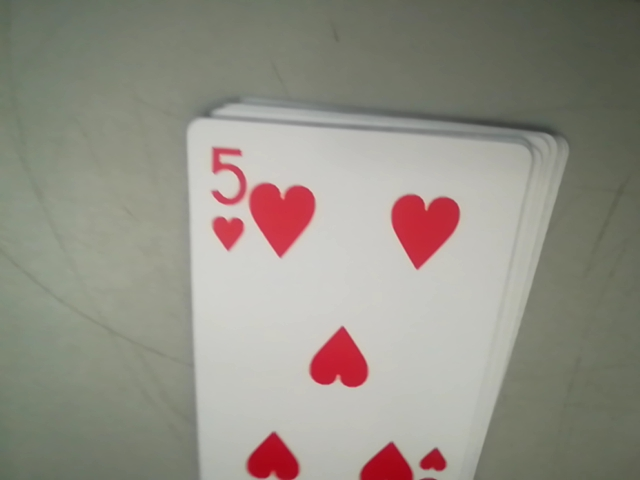hx 5: (193, 123, 254, 262)
